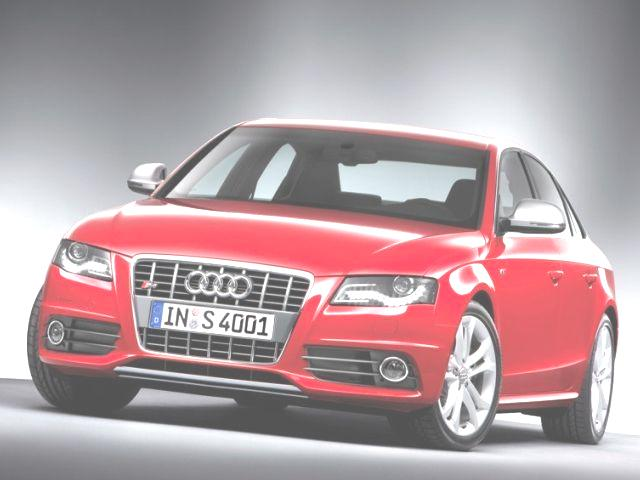Audi: (176, 260, 270, 307)
